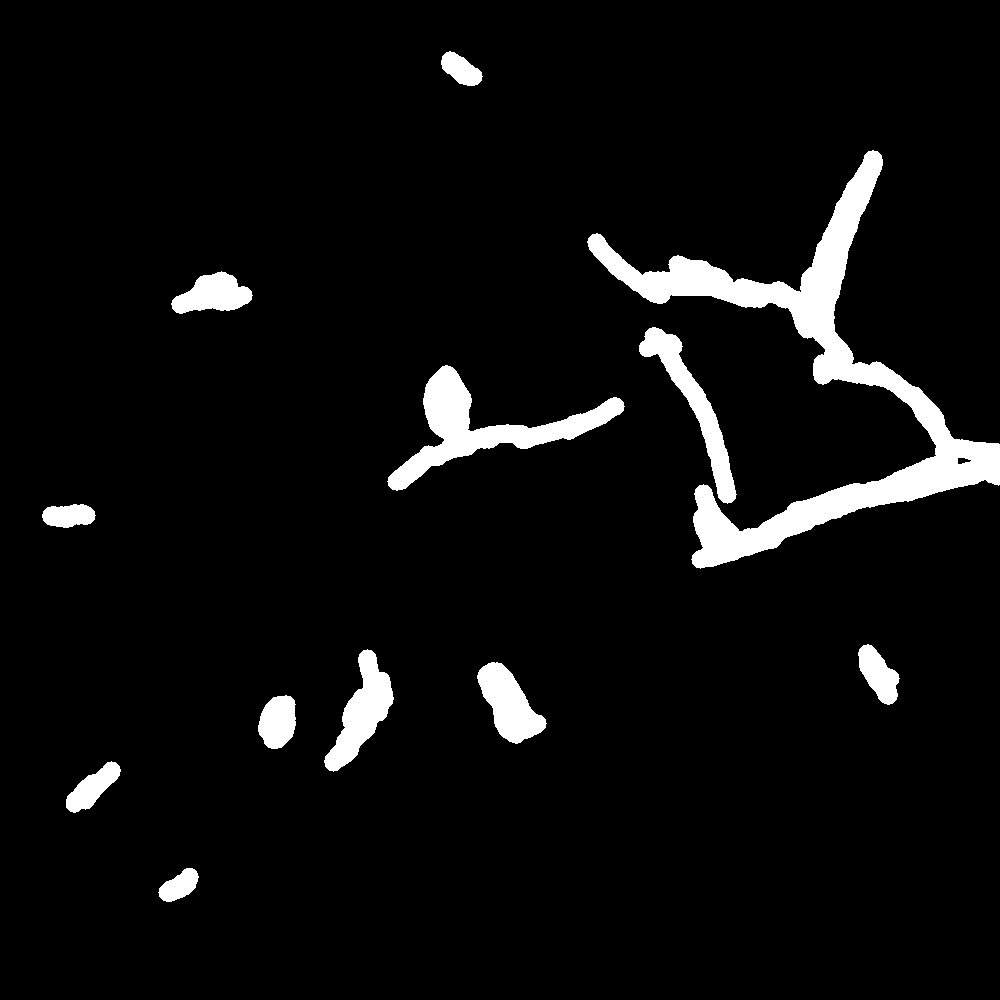illegal: (659, 260, 1000, 574), (824, 130, 887, 248), (592, 227, 660, 297), (178, 270, 262, 315), (859, 643, 904, 718), (436, 43, 492, 86)
